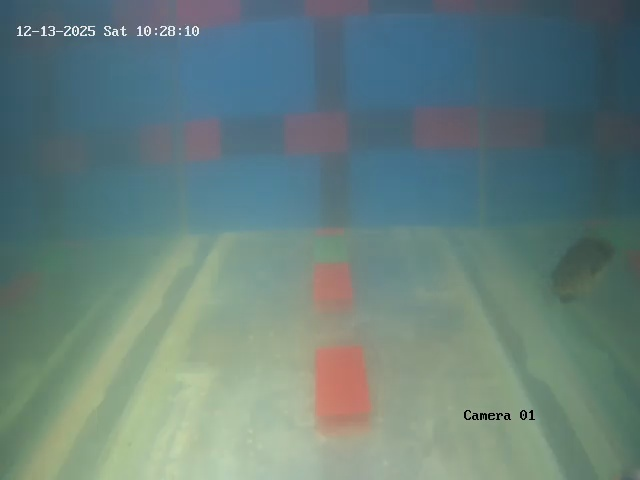fish: (546, 220, 609, 296)
